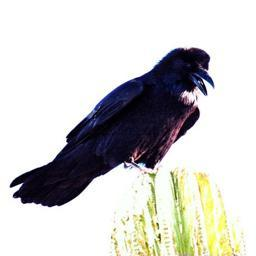Crow: (10, 47, 214, 208)
